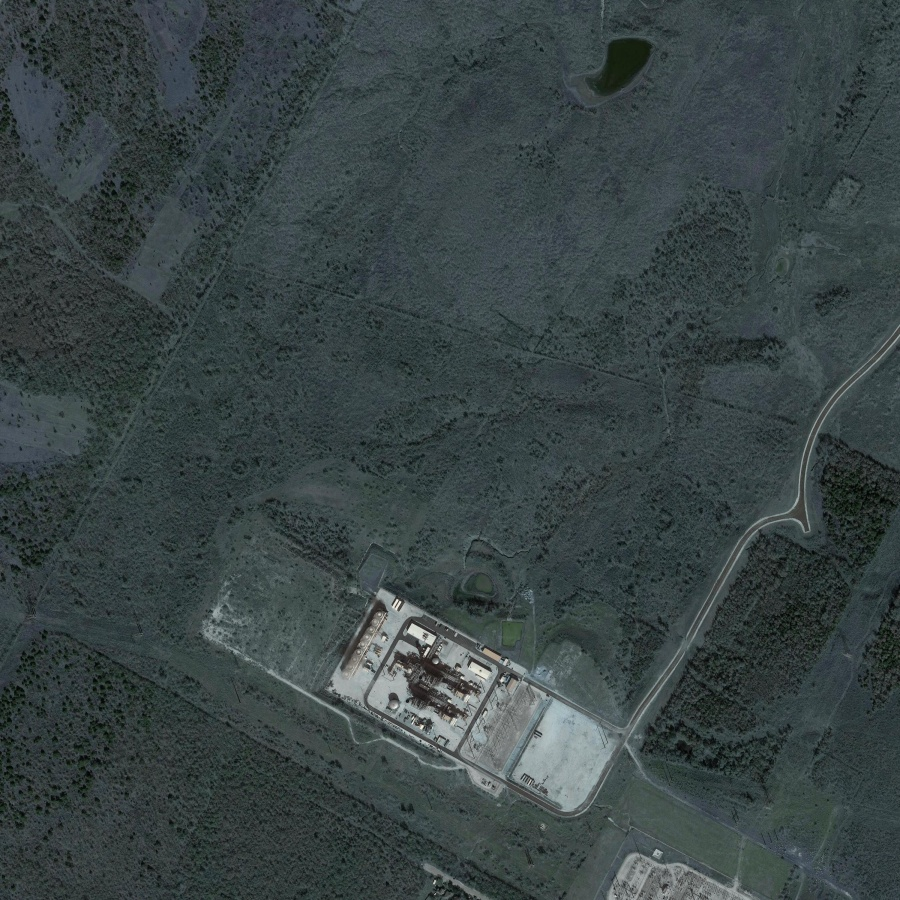PowerPlant: (331, 591, 541, 781)
